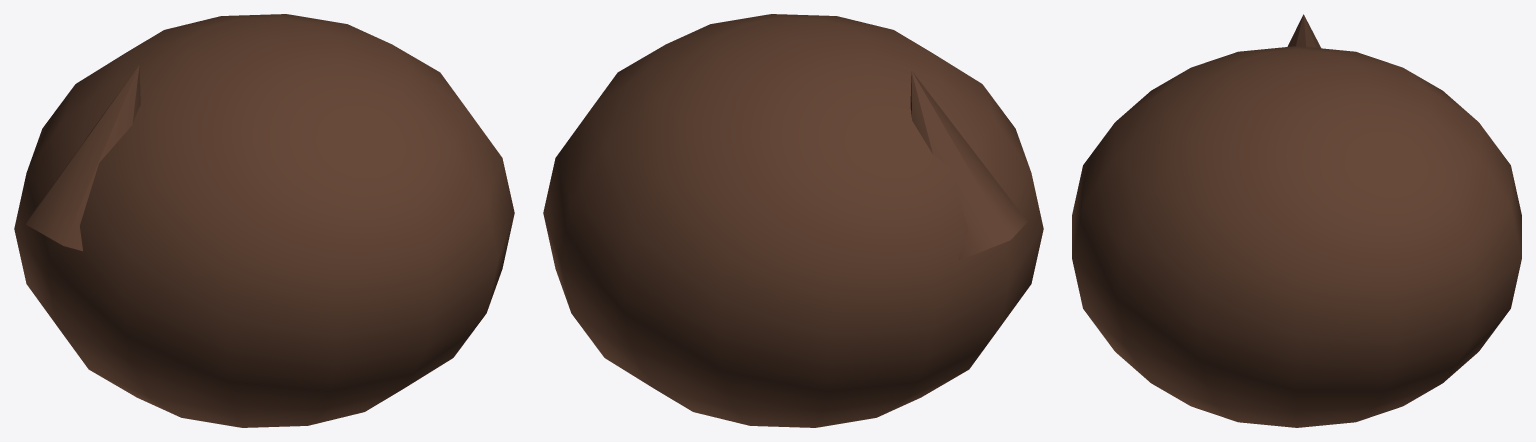
File: mohawk_hair.glb
3 renders of one model, left to right at view 1: azimuth 30°, elevation 25°; view 2: azimuth 150°, elevation 25°; view 3: azimuth 270°, elevation 25°, orthographic. The views are drawn at different scales.
Parts seen in each view (by area): view 1: hair_cap, hair_detail_1; view 2: hair_cap, hair_detail_1; view 3: hair_cap, hair_detail_1.
Part boxes in pixels (box(x1,y1,x2,y2)): hair_cap: box(14, 14, 514, 427); hair_detail_1: box(26, 65, 140, 251); hair_cap: box(543, 14, 1043, 427); hair_detail_1: box(910, 70, 1027, 260); hair_cap: box(1072, 46, 1521, 427); hair_detail_1: box(1287, 14, 1320, 48).
Size of the model in its own units: 0.717 by 0.5586 by 0.6824.
